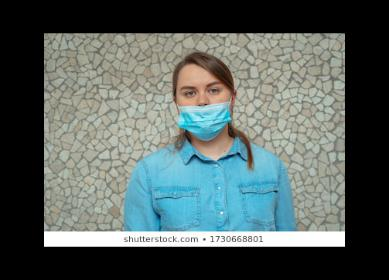mask_weared_incorrect: (178, 81, 227, 133)
